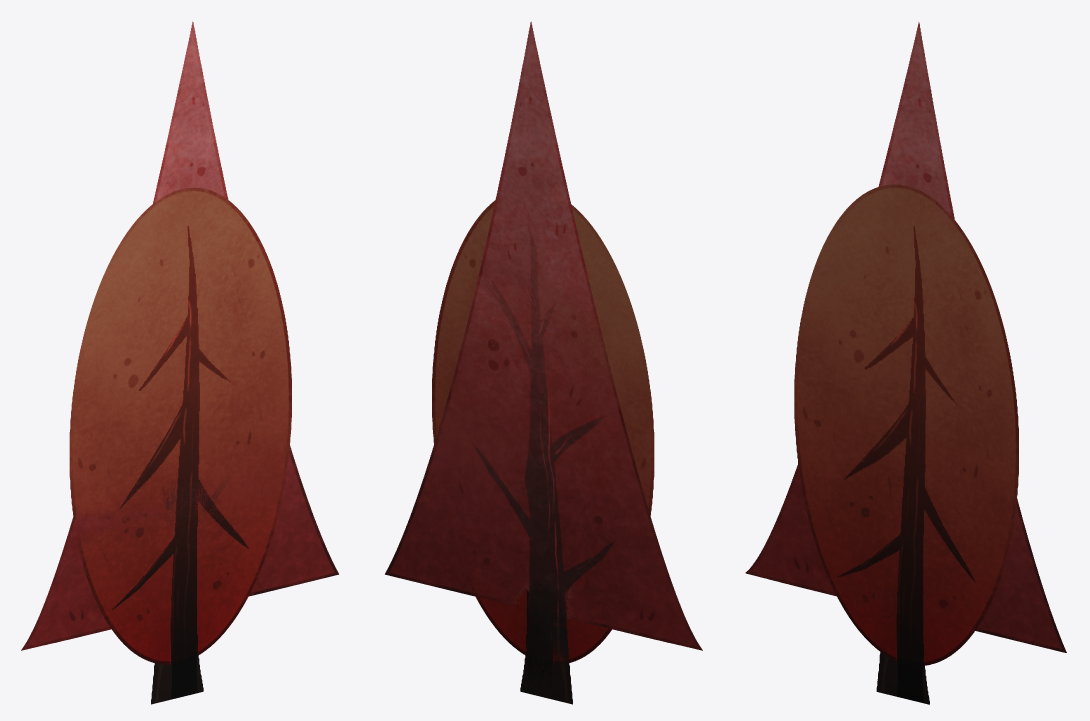
File: Trees.FBX
3 views of the same model, side by side, from view 1: azimuth 30°, elevation 25°; view 2: azimuth 150°, elevation 25°; view 3: azimuth 330°, elevation 25° (orthographic).
Parts seen in each view (by area): view 1: TreeA, TreeB; view 2: TreeB, TreeA; view 3: TreeA, TreeB.
Boxes of the visible parts, x1=… form: TreeA: x1=69, y1=187, x2=291, y2=699; TreeB: x1=21, y1=21, x2=338, y2=704; TreeB: x1=385, y1=21, x2=702, y2=704; TreeA: x1=432, y1=200, x2=654, y2=693; TreeA: x1=794, y1=184, x2=1018, y2=703; TreeB: x1=745, y1=22, x2=1066, y2=704.
Bounding box in the file's own units: 186 × 5.9e-05 × 362.
